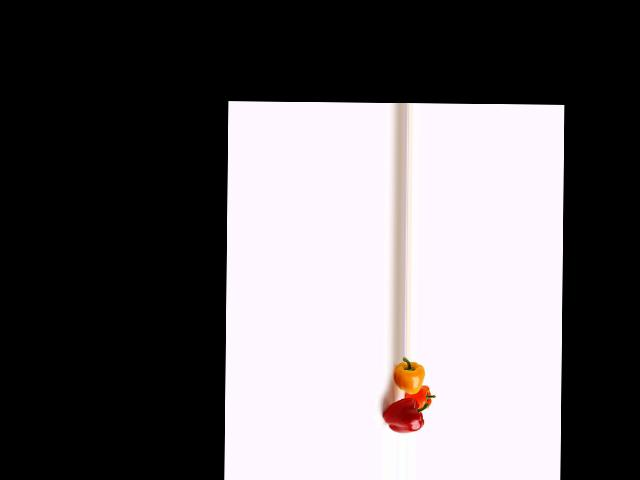bell_pepper: (378, 395, 433, 434)
